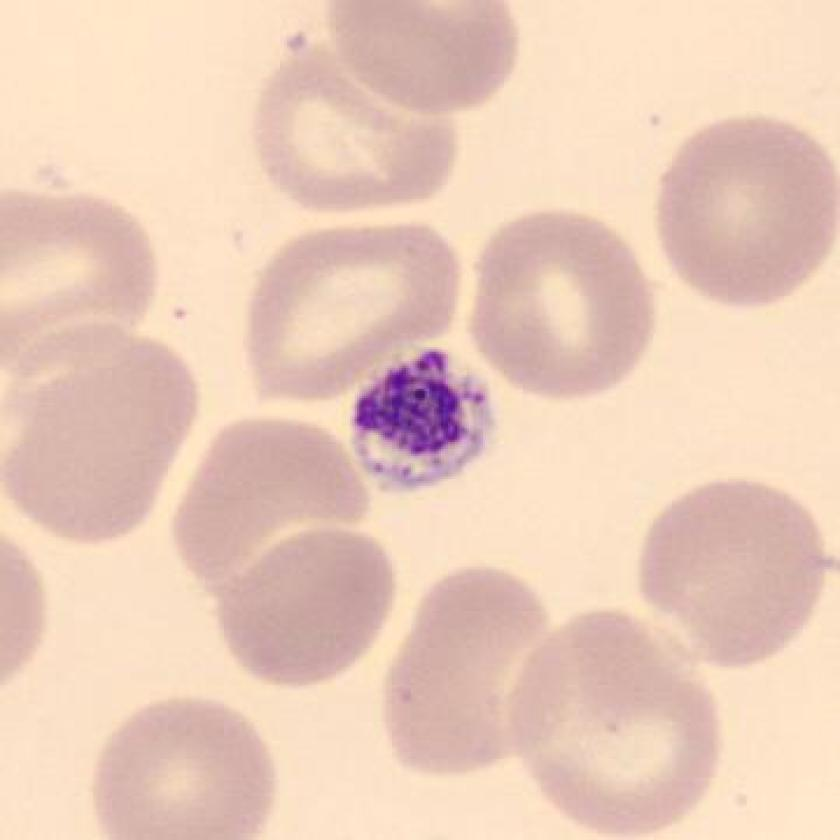platelets: (346, 335, 505, 506)
